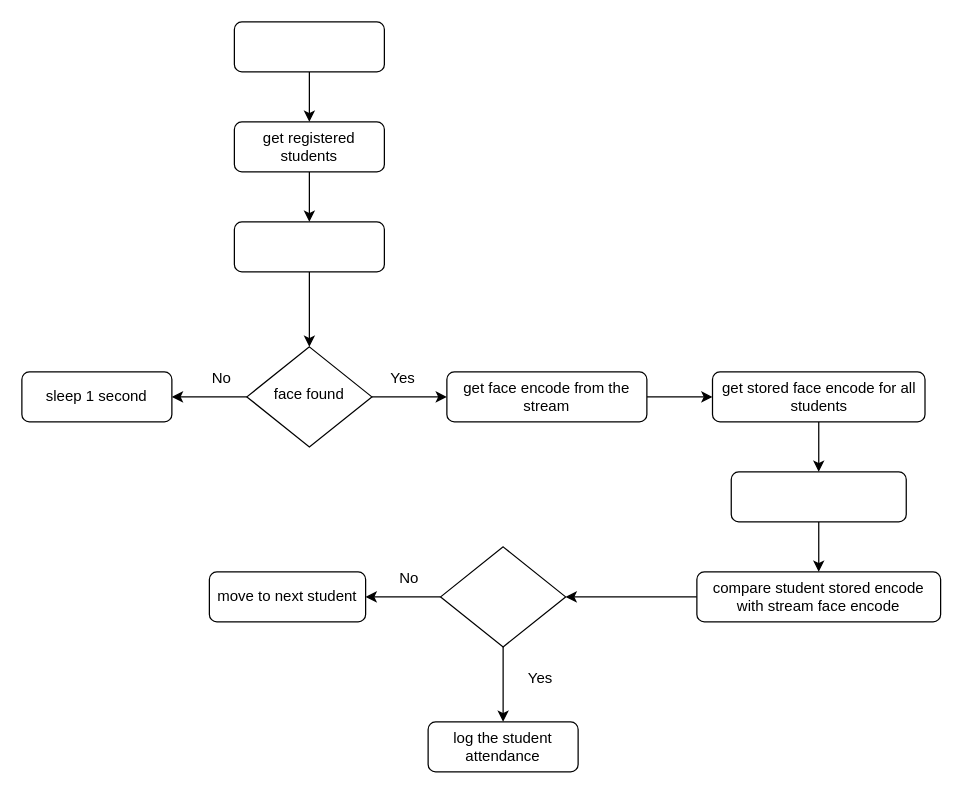
Image size: 963x794. Some labels were removed from this diagram. Each missing label, with the centre of its shape:
"loop over the students" goes at point (818, 496).
"match" goes at point (502, 596).
"select lecture" goes at point (308, 46).
"start capturing" goes at point (308, 246).
